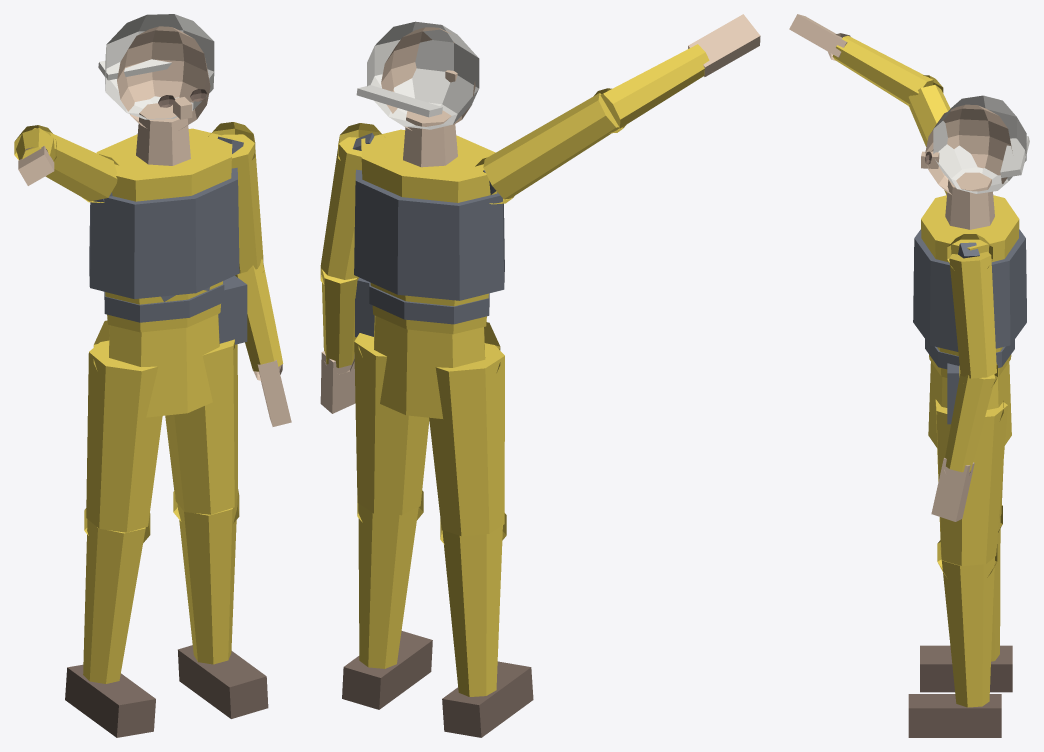
File: low-poly-character-figures-pilot-standing-50d0b7e7__36384.glb
3 renders of one model, left to right at view 1: azimuth 30°, elevation 25°; view 2: azimuth 150°, elevation 25°; view 3: azimuth 270°, elevation 25°, orthographic. The views are drawn at different scales.
Visible parts, largest first — view 1: pilot-standing; view 2: pilot-standing; view 3: pilot-standing.
Boxes of the visible parts, x1=… form: pilot-standing: x1=14, y1=14, x2=291, y2=737; pilot-standing: x1=320, y1=14, x2=760, y2=737; pilot-standing: x1=789, y1=14, x2=1029, y2=737.
Size of the model in its own units: 0.9671 by 1.77 by 0.6354.
